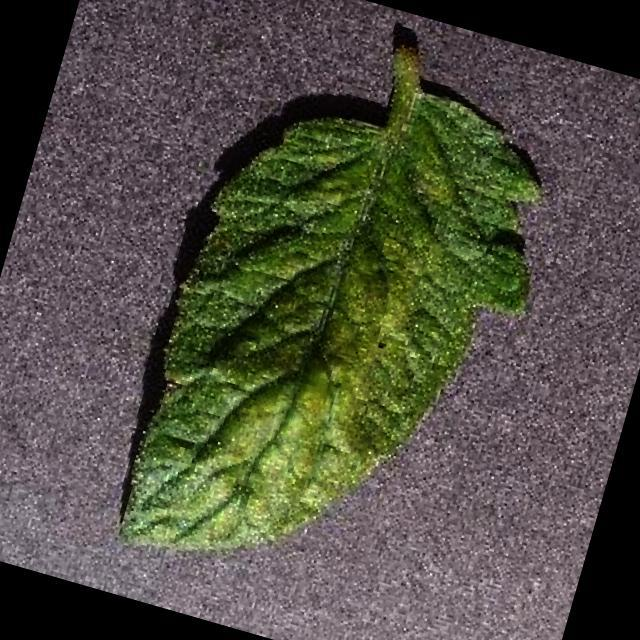Tomato spider mites leaf: (107, 37, 578, 635)
